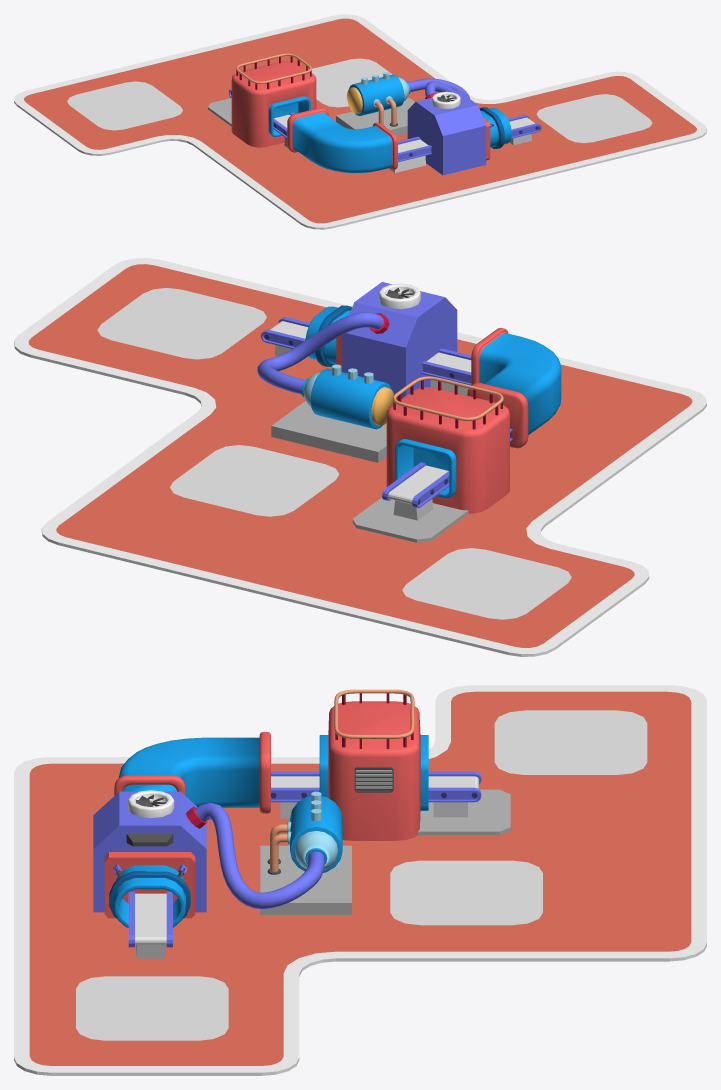
Rendered from Almunium_Refining_Machine_L1.fbx.
The picture shows the model from 3 angles, top to bottom: view 1: azimuth 30°, elevation 25°; view 2: azimuth 150°, elevation 25°; view 3: azimuth 270°, elevation 25°; orthographic projection. The views are drawn at different scales.
Parts seen in each view (by area): view 1: Cube.213, Cube.193, Cube.035, Cube.178, Buy Garbage Box.003, Buy Garbage Box.004, Buy Garbage Box.001, Cylinder.051, Cube.200, Cylinder.050, Cube.189, BezierCurve (+5 smaller); view 2: Cube.213, Cube.178, Buy Garbage Box.003, Buy Garbage Box.001, Buy Garbage Box.004, Cube.035, Cube.193, Cylinder.051, Cube.200, Cube.182, BezierCurve, Cube.184 (+7 smaller); view 3: Cube.213, Cube.178, Buy Garbage Box.001, Buy Garbage Box.003, Buy Garbage Box.004, Cube.193, Cube.035, Cube.200, BezierCurve, Cylinder.051, Cube.182, Cylinder.050 (+12 smaller).
Part boxes in pixels (x1=…): Cube.213: x1=14, y1=14, x2=706, y2=229; Cube.193: x1=287, y1=107, x2=397, y2=173; Cube.035: x1=407, y1=91, x2=486, y2=175; Cube.178: x1=231, y1=60, x2=316, y2=147; Buy Garbage Box.003: x1=67, y1=81, x2=182, y2=130; Buy Garbage Box.004: x1=536, y1=94, x2=652, y2=142; Buy Garbage Box.001: x1=308, y1=58, x2=392, y2=107; Cylinder.051: x1=347, y1=74, x2=410, y2=116; Cube.200: x1=336, y1=97, x2=414, y2=135; Cylinder.050: x1=479, y1=107, x2=511, y2=149; Cube.189: x1=268, y1=96, x2=310, y2=136; BezierCurve: x1=408, y1=78, x2=469, y2=98; Cube.213: x1=14, y1=258, x2=706, y2=656; Cube.178: x1=386, y1=387, x2=509, y2=513; Buy Garbage Box.003: x1=402, y1=548, x2=571, y2=619; Buy Garbage Box.001: x1=170, y1=445, x2=339, y2=516; Buy Garbage Box.004: x1=97, y1=288, x2=266, y2=359; Cube.035: x1=342, y1=282, x2=457, y2=400; Cube.193: x1=467, y1=327, x2=561, y2=448; Cylinder.051: x1=301, y1=368, x2=393, y2=429; Cube.200: x1=271, y1=401, x2=386, y2=462; Cube.182: x1=352, y1=497, x2=468, y2=542; BezierCurve: x1=257, y1=312, x2=383, y2=394; Cube.184: x1=395, y1=439, x2=456, y2=498; Cube.213: x1=14, y1=685, x2=706, y2=1075; Cube.178: x1=328, y1=701, x2=420, y2=840; Buy Garbage Box.001: x1=390, y1=860, x2=542, y2=925; Buy Garbage Box.003: x1=494, y1=710, x2=647, y2=774; Buy Garbage Box.004: x1=76, y1=976, x2=228, y2=1040; Cube.193: x1=114, y1=732, x2=270, y2=813; Cube.035: x1=93, y1=791, x2=206, y2=912; Cube.200: x1=260, y1=845, x2=351, y2=914; BezierCurve: x1=194, y1=803, x2=324, y2=909; Cylinder.051: x1=290, y1=796, x2=342, y2=872; Cube.182: x1=417, y1=789, x2=510, y2=835; Cylinder.050: x1=109, y1=865, x2=190, y2=927.
Bounding box in the file's own units: 2700 × 347 × 2040.
